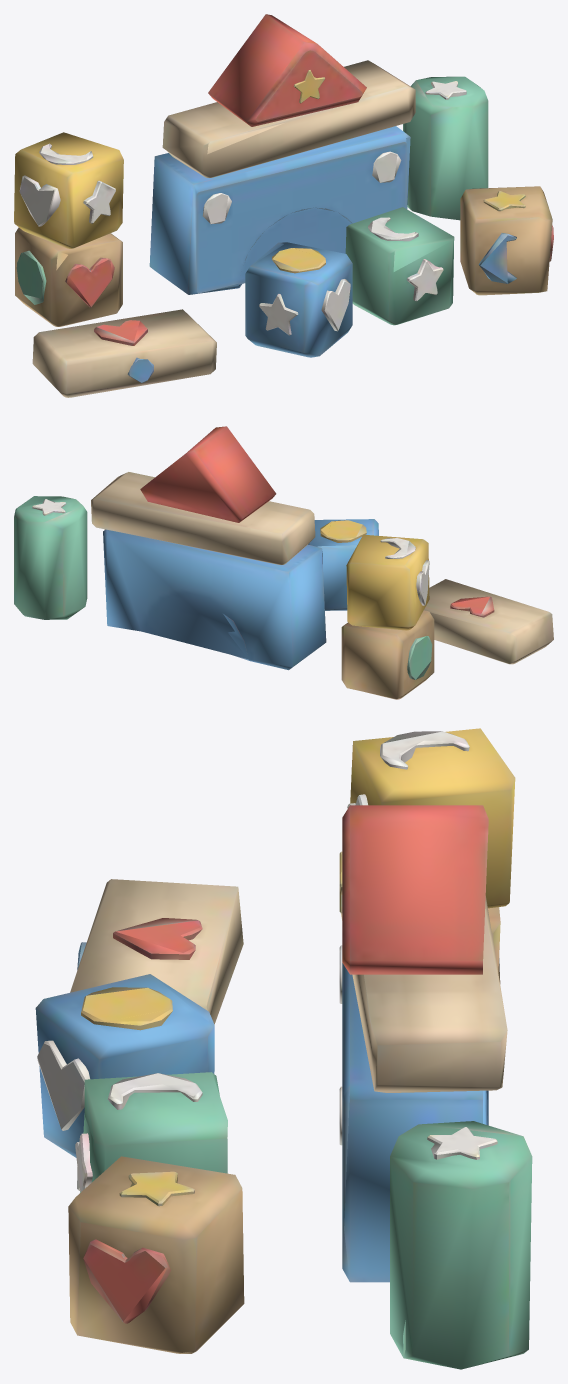
File: g3d_toy_blocks.glb
3 renders of one model, top to bottom at view 1: azimuth 30°, elevation 25°; view 2: azimuth 150°, elevation 25°; view 3: azimuth 270°, elevation 25°, orthographic. The views are drawn at different scales.
Visible parts, largest first — view 1: toy-blocks_body, toy-blocks_body_lo; view 2: toy-blocks_body, toy-blocks_body_lo; view 3: toy-blocks_body, toy-blocks_body_lo.
Boxes of the visible parts, <box> form: toy-blocks_body: <box>14,14,553,397</box>; toy-blocks_body_lo: <box>19,26,553,393</box>; toy-blocks_body: <box>14,426,553,699</box>; toy-blocks_body_lo: <box>32,436,511,677</box>; toy-blocks_body: <box>35,728,532,1369</box>; toy-blocks_body_lo: <box>47,729,510,1357</box>.
Size of the model in its own units: 0.2787 by 0.1175 by 0.1336.
1 material, 1 textured.
